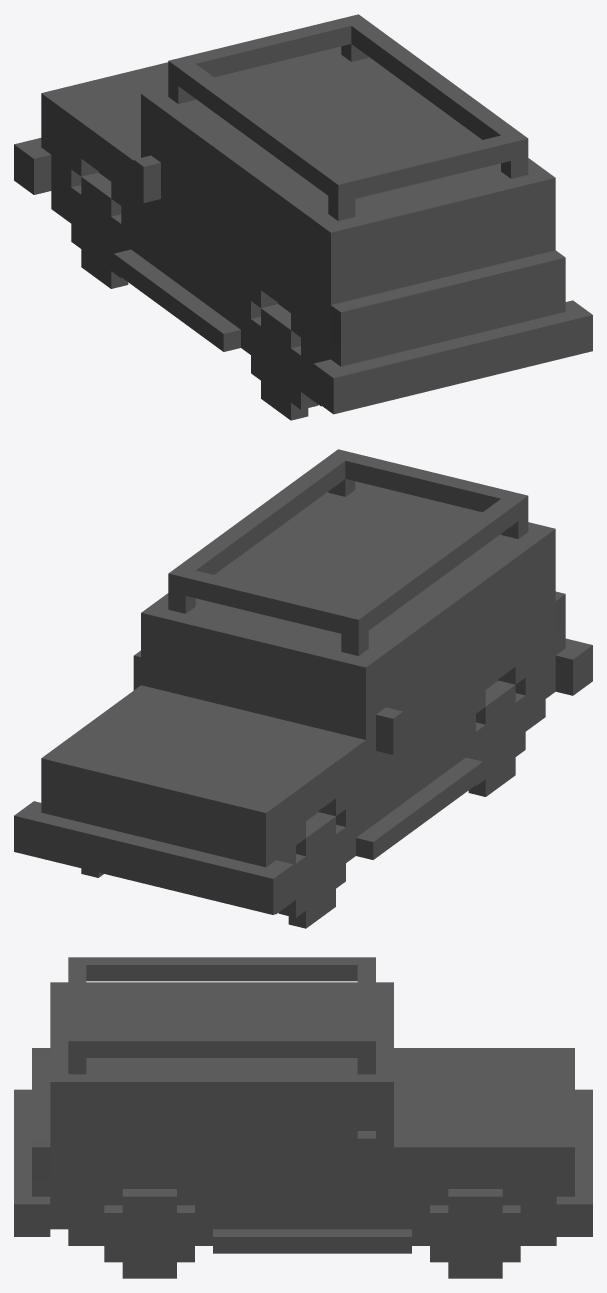
The model's file is veh_suv3.obj.
3 views of the same model, one above another, from view 1: azimuth 30°, elevation 25°; view 2: azimuth 150°, elevation 25°; view 3: azimuth 270°, elevation 25° (orthographic). The views are drawn at different scales.
Size of the model in its own units: 15 by 14 by 32.
